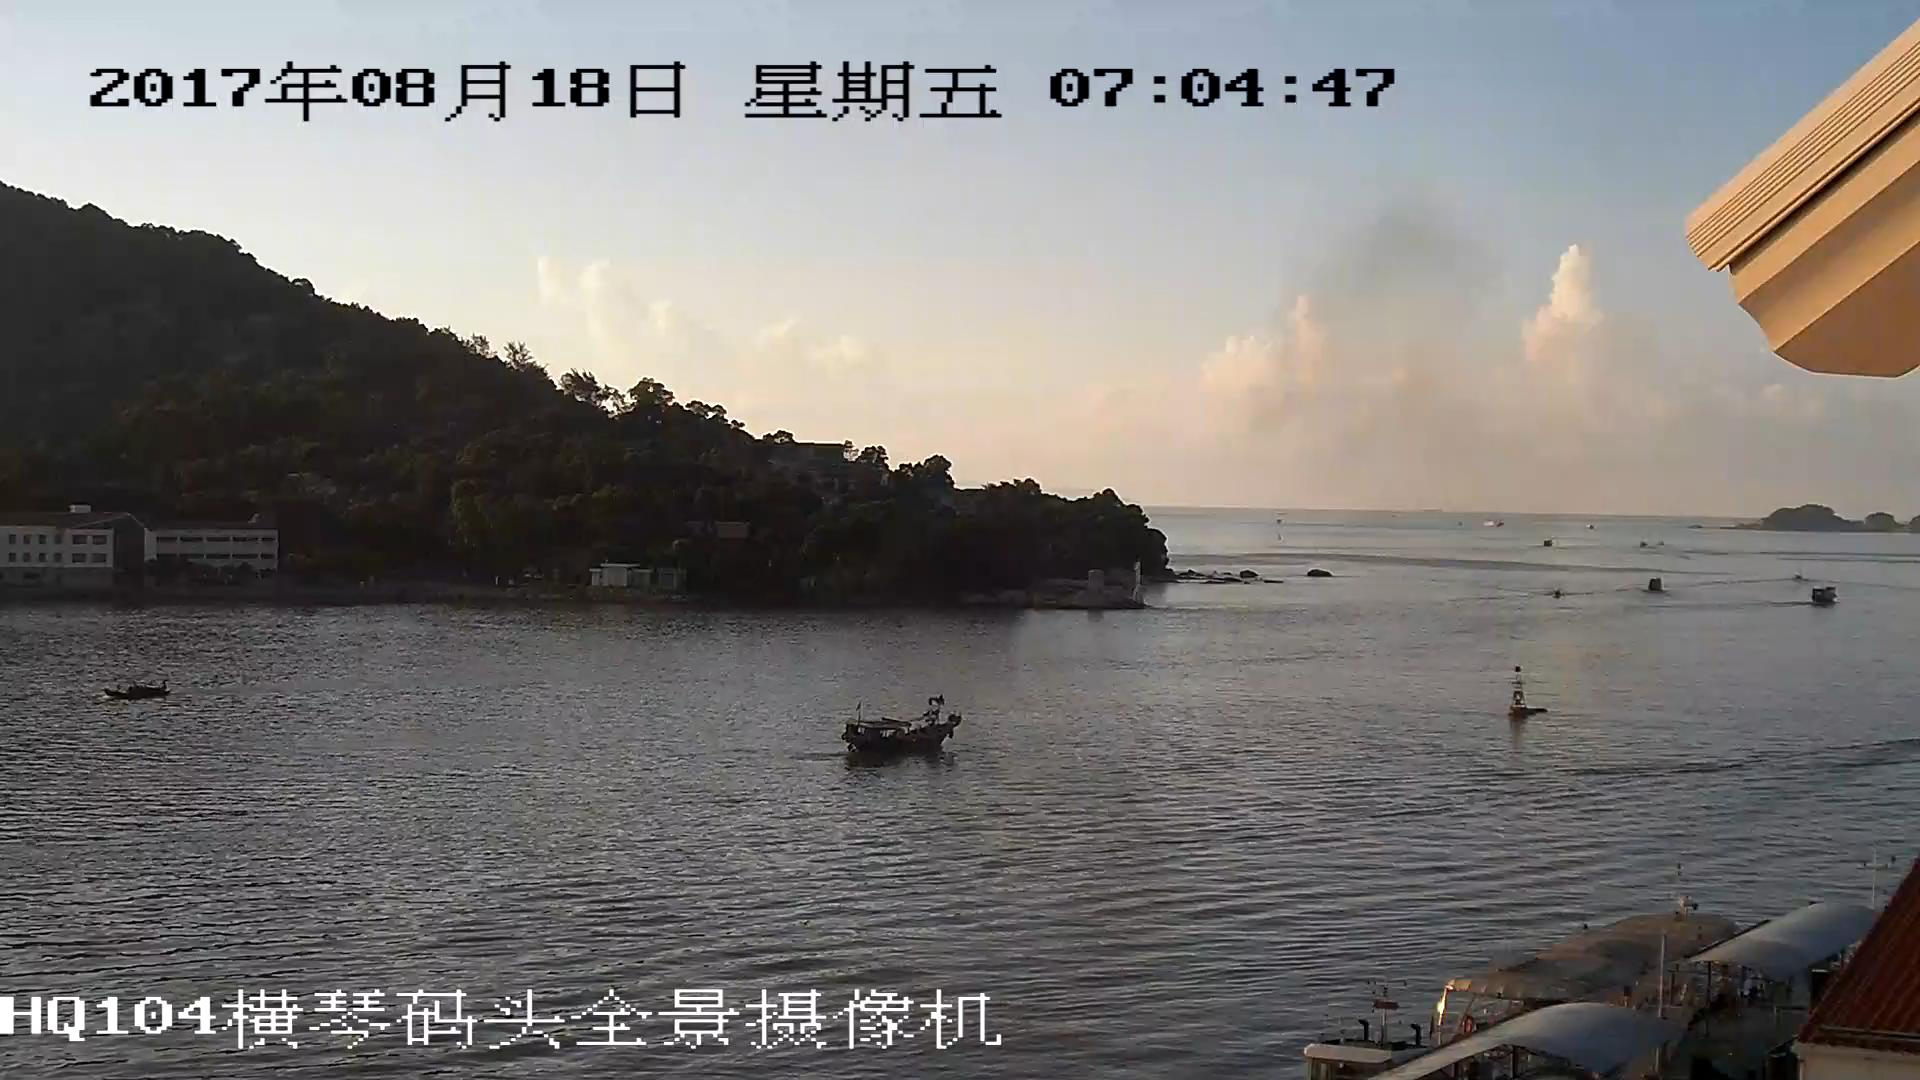fishing boat: (839, 702, 955, 752), (104, 685, 175, 699)
